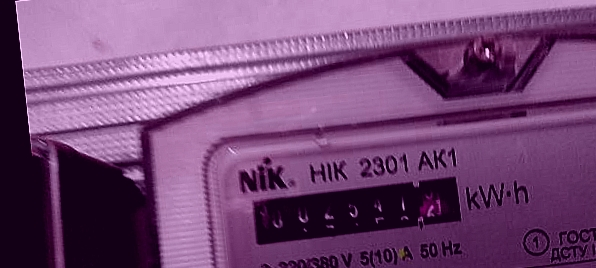0: (266, 203, 286, 231), (293, 197, 310, 226)
1: (392, 185, 408, 213)
2: (317, 195, 335, 221)
4: (368, 188, 384, 213)
5: (342, 191, 363, 221)
6: (421, 199, 438, 218)
screen: (237, 161, 477, 256)
